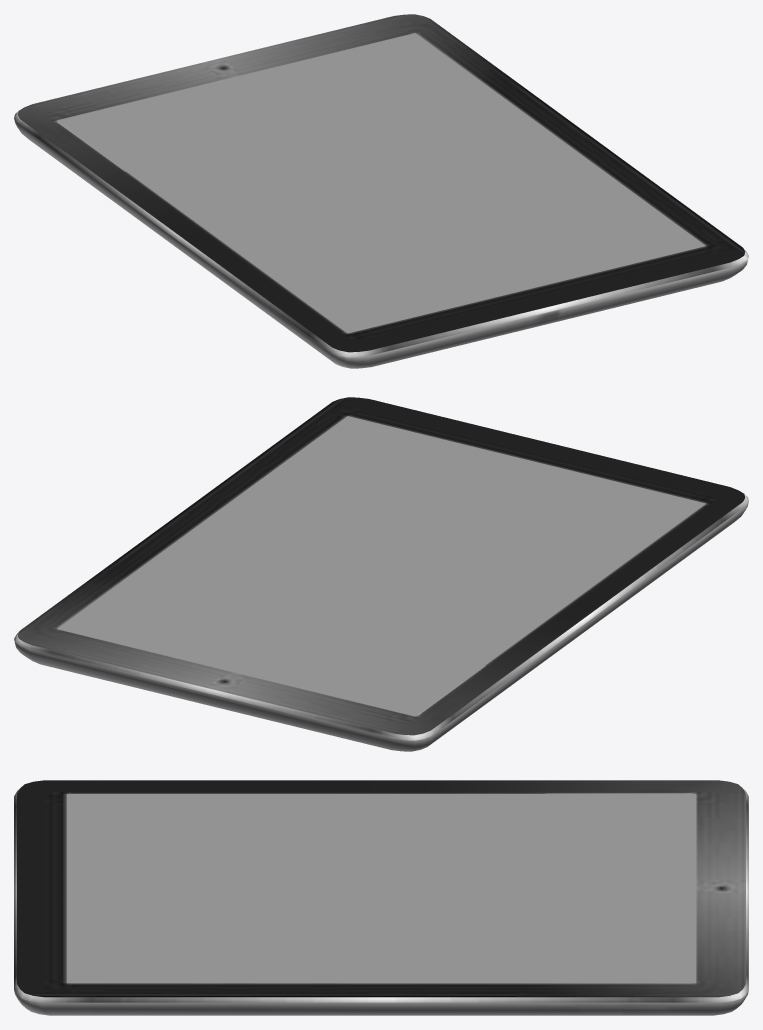
Rendered from TabletClima.glb.
3 views of the same model, one above another, from view 1: azimuth 30°, elevation 25°; view 2: azimuth 150°, elevation 25°; view 3: azimuth 270°, elevation 25° (orthographic). The views are drawn at different scales.
Parts seen in each view (by area): view 1: Screen04, Main04; view 2: Screen04, Main04; view 3: Screen04, Main04.
Boxes of the visible parts, bbox=[...] form: Screen04: bbox=[57, 33, 705, 333]; Main04: bbox=[14, 14, 748, 368]; Screen04: bbox=[57, 416, 705, 716]; Main04: bbox=[14, 397, 748, 751]; Screen04: bbox=[66, 794, 696, 983]; Main04: bbox=[14, 780, 748, 1015].
Bounding box in the file's own units: 0.1696 × 0.0084 × 0.2403.
2 materials, 1 textured.
